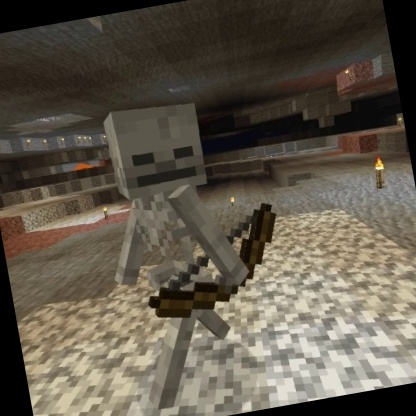skeleton: (80, 81, 310, 416)
